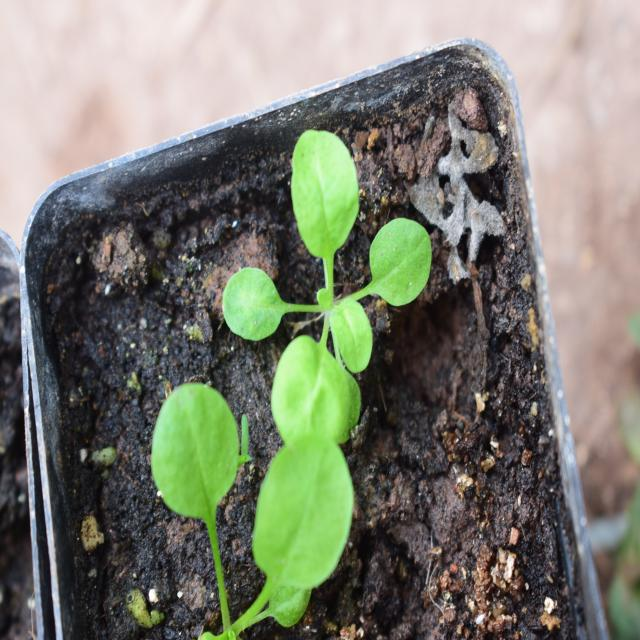Shepherd_Purse: (242, 128, 445, 438), (140, 380, 361, 627)
